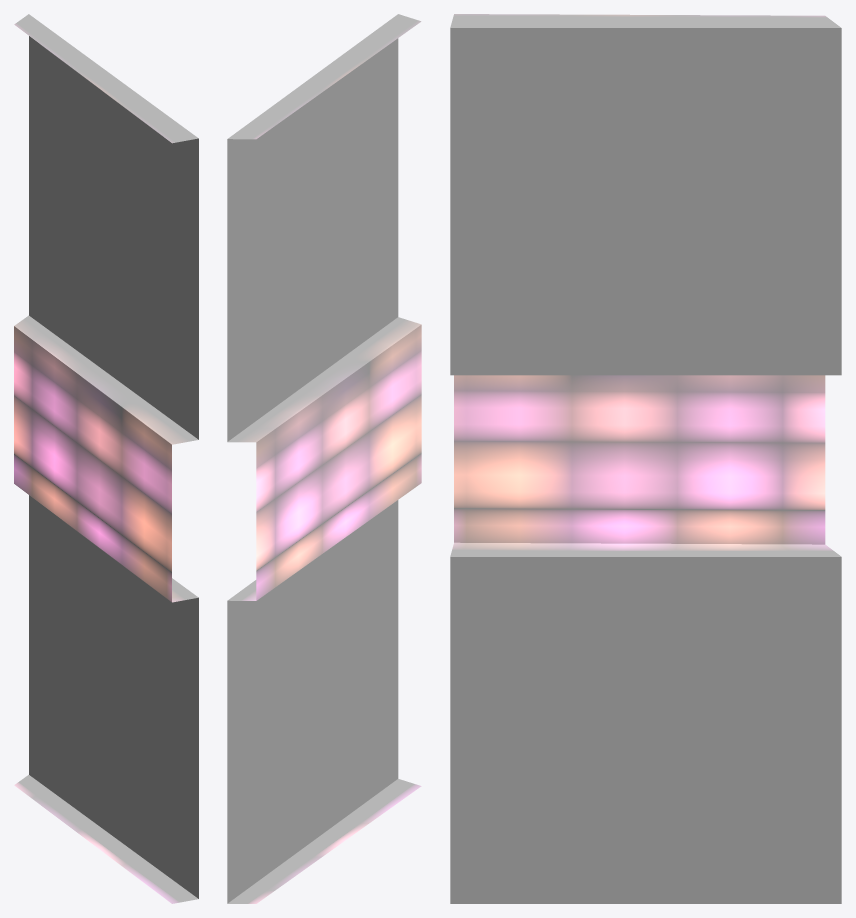
File: BuildingBaseSmallWall.fbx
3 views of the same model, side by side, from view 1: azimuth 30°, elevation 25°; view 2: azimuth 150°, elevation 25°; view 3: azimuth 270°, elevation 25° (orthographic). The views are drawn at different scales.
Parts seen in each view (by area): view 1: BuildingBase; view 2: BuildingBase; view 3: BuildingBase.
Part boxes in pixels (left/top/right/bottom): BuildingBase: left=14, top=14, right=198, bottom=903; BuildingBase: left=227, top=14, right=421, bottom=903; BuildingBase: left=450, top=14, right=841, bottom=903.
Size of the model in its own units: 7.13 by 207 by 83.9.
